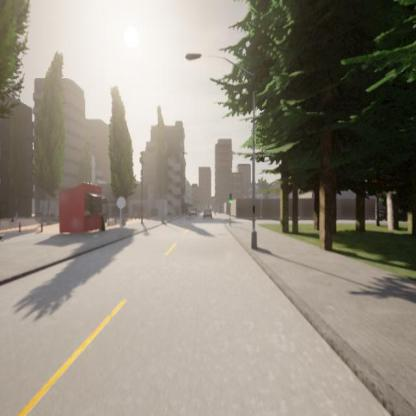traffic_light_green: (230, 194, 232, 206)
